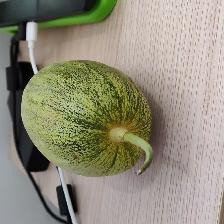gua: (21, 64, 149, 173)
